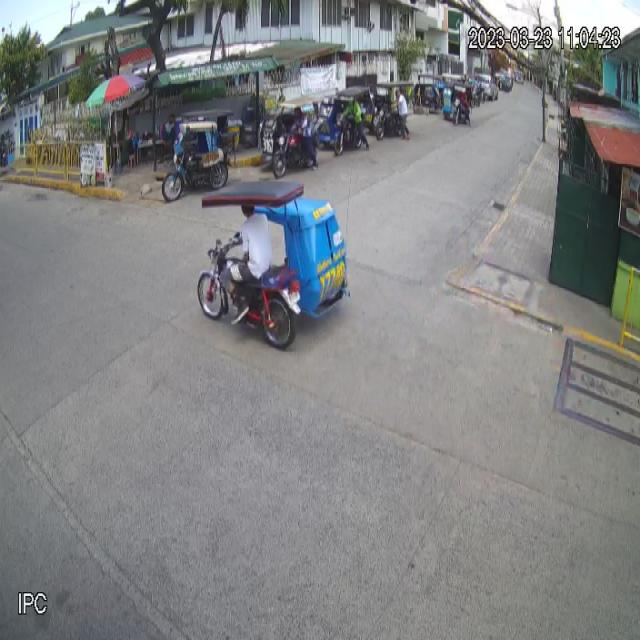Tricycle: (196, 179, 352, 351)
